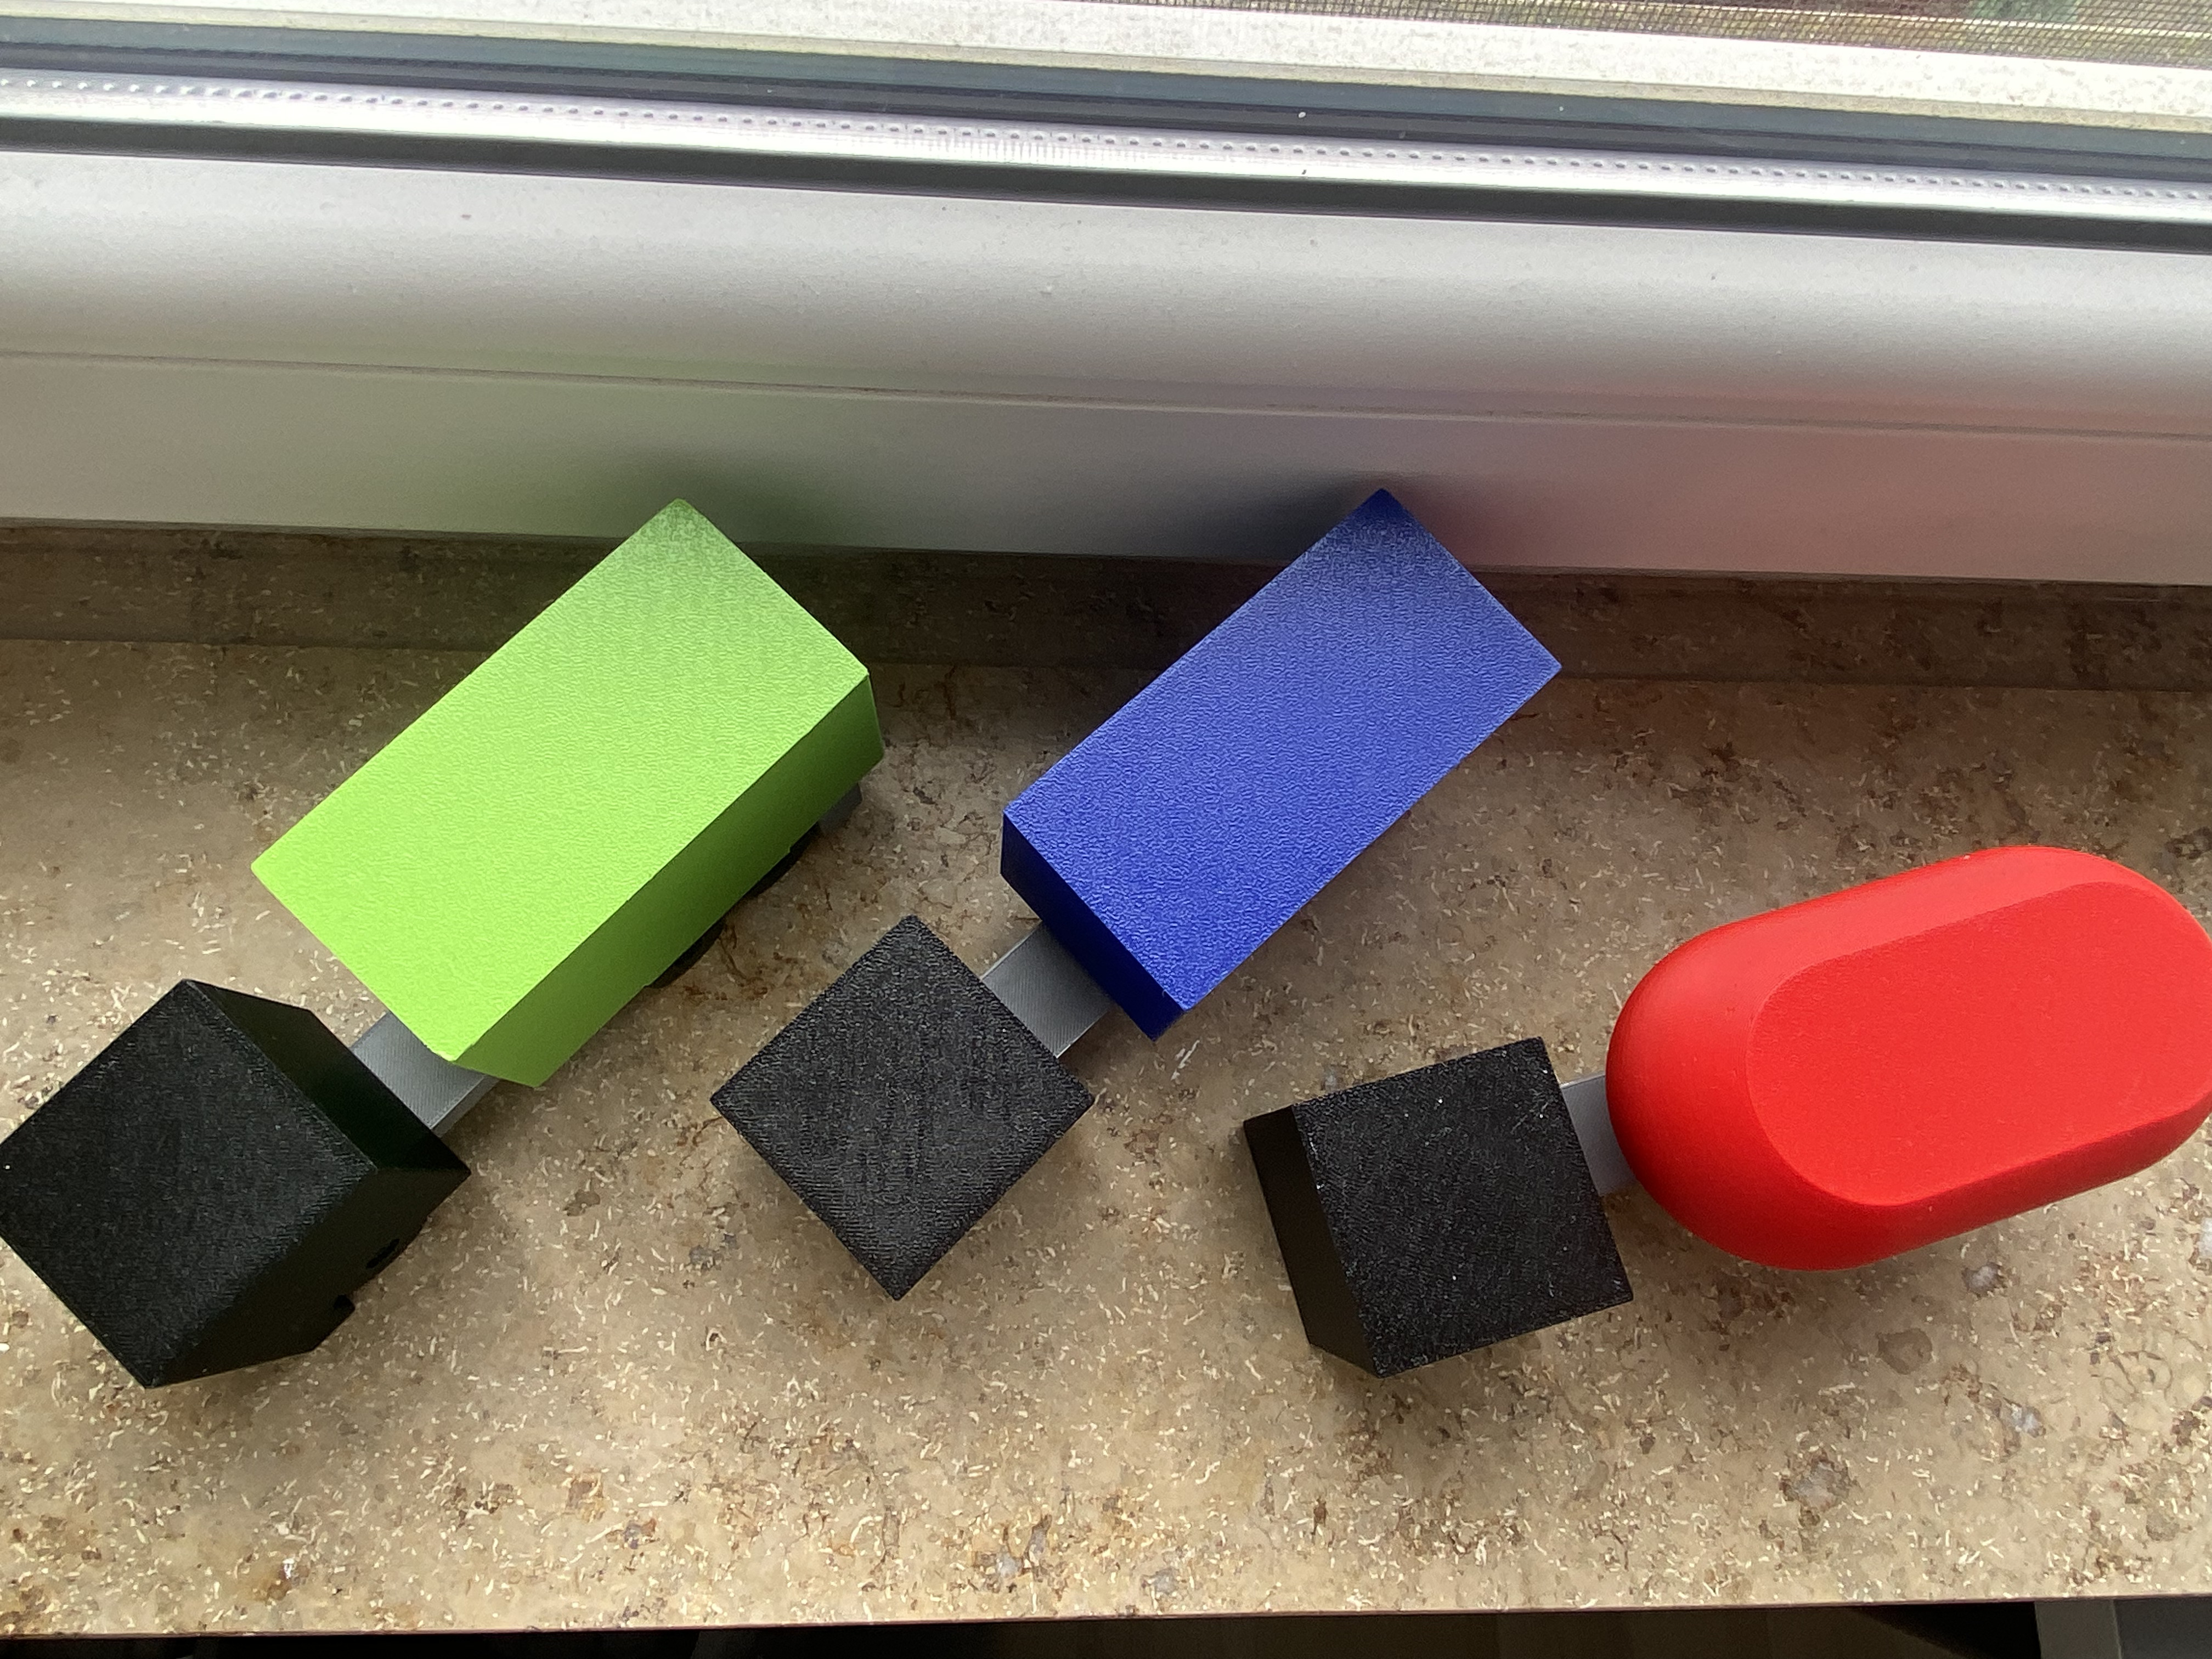blue_truck: (637, 723, 1618, 1039)
red_truck: (1251, 911, 2212, 1293)
